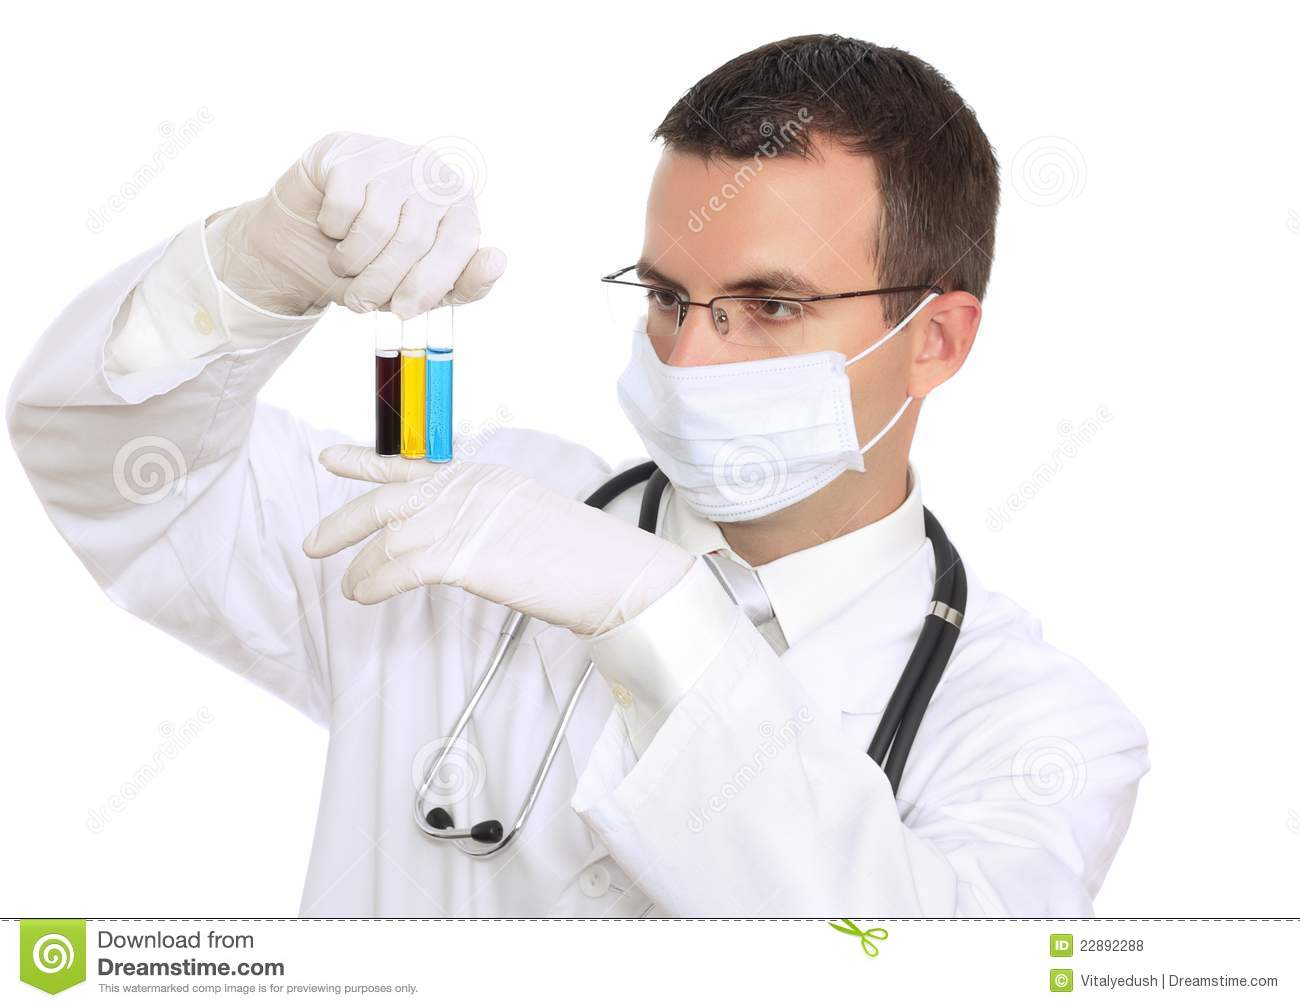mask: (611, 315, 884, 529)
